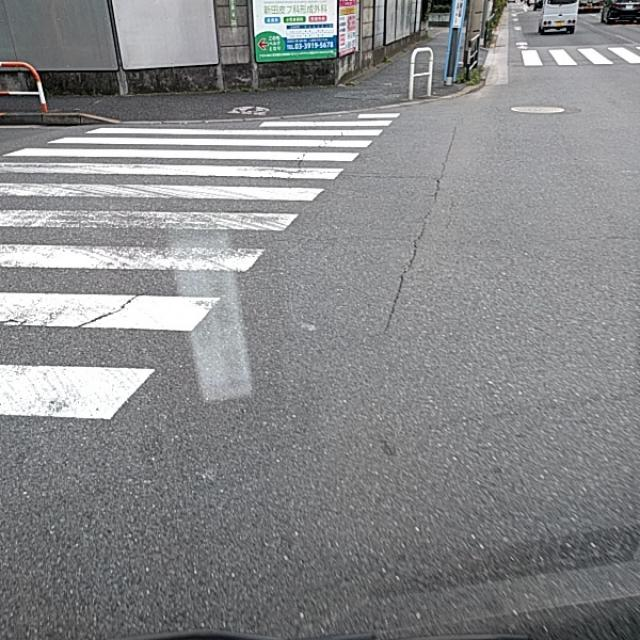pothole: (385, 257, 421, 333)
